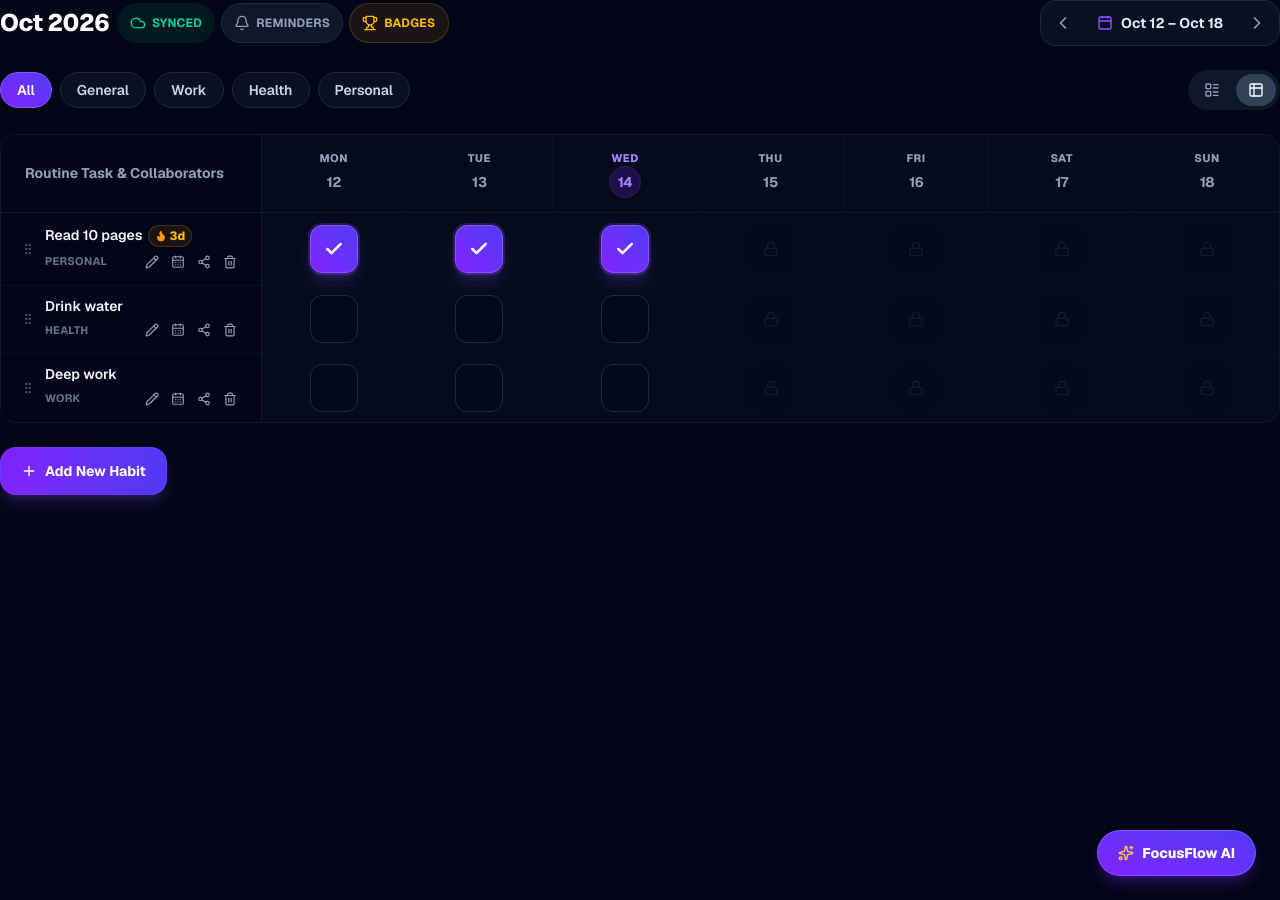
Test case: Weekly Tracker › asks for confirmation before deleting, then deletes the habit and its history
The image size is (1280, 900).
What coordinates should you click on to do the following:
click the button titled "Archive or delete habit" below "Read 10 pages"
I would click on:
 (230, 262)
Its box is [218, 251, 240, 273].
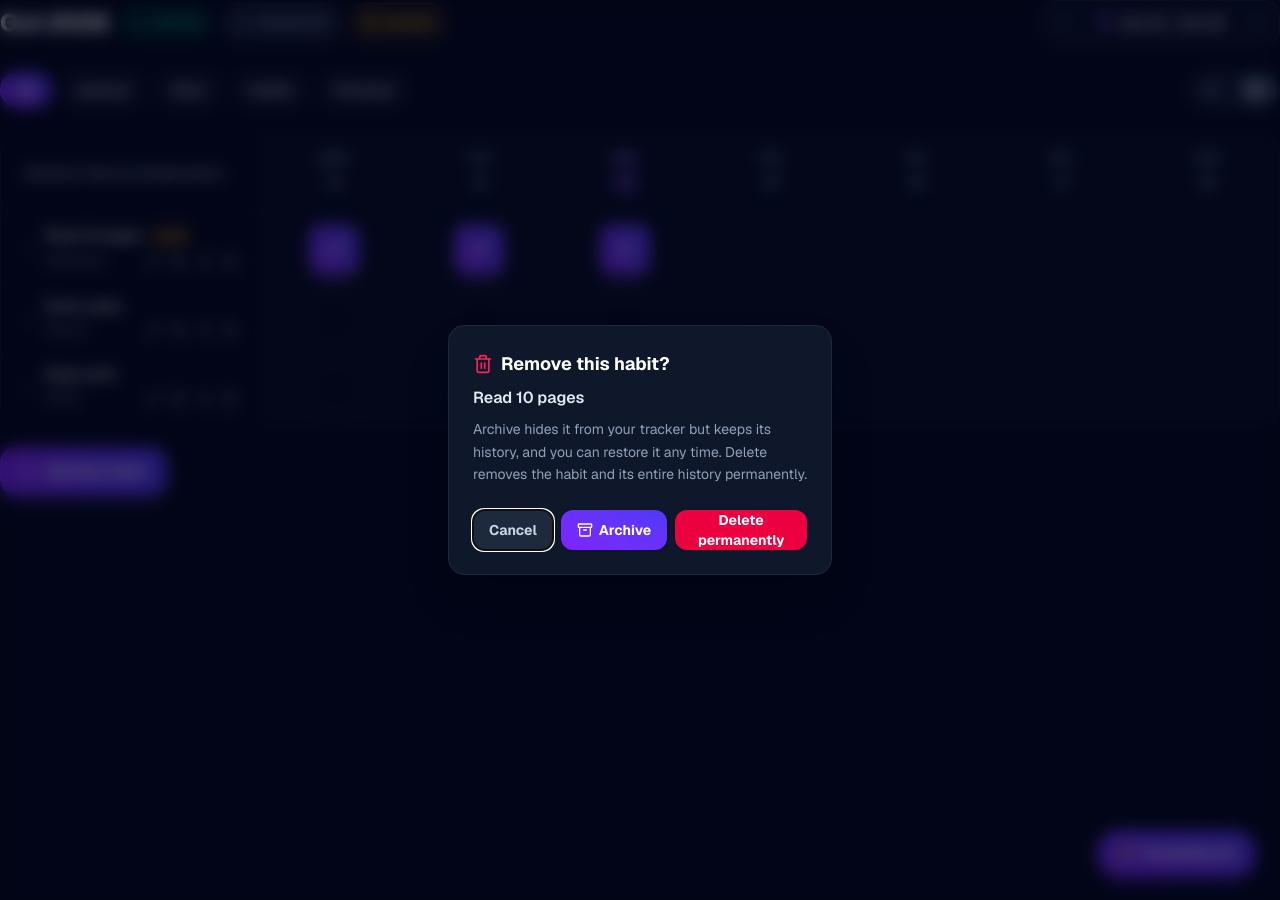
Now the dialog is shown, box [448, 325, 832, 575]
What coordinates should you click on to do the following:
click the button "Delete permanently"
I would click on:
 (741, 530)
Its box is [675, 510, 807, 550].
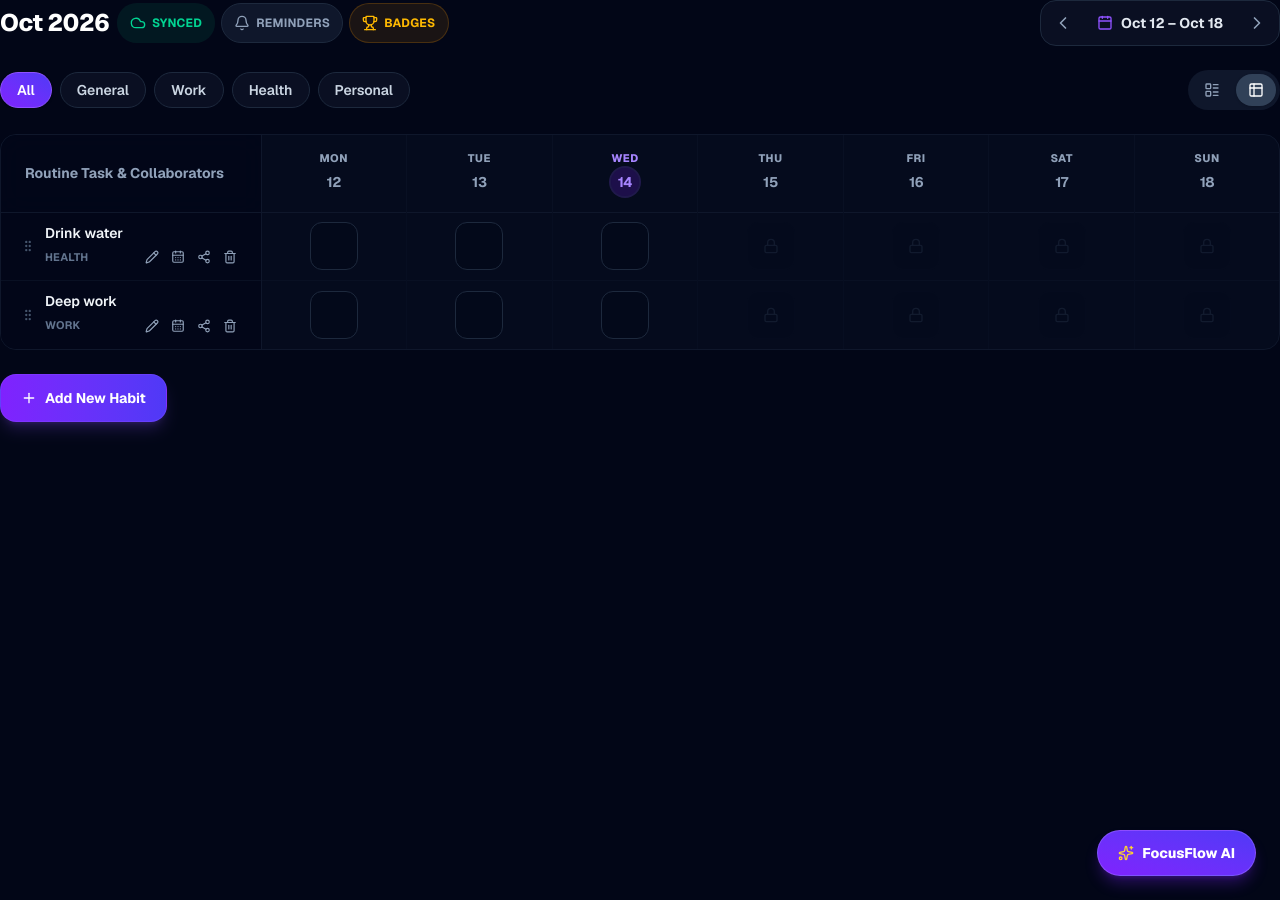
Now the text "Read 10 pages" is not shown
